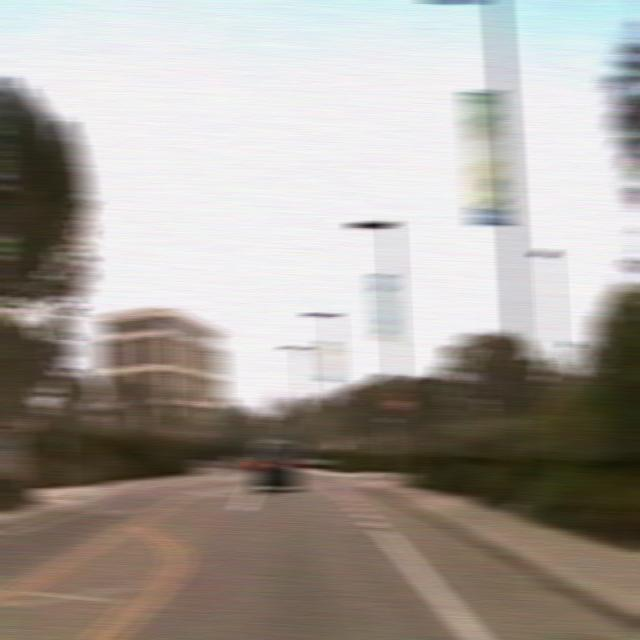stop_sign: (384, 391, 412, 417)
